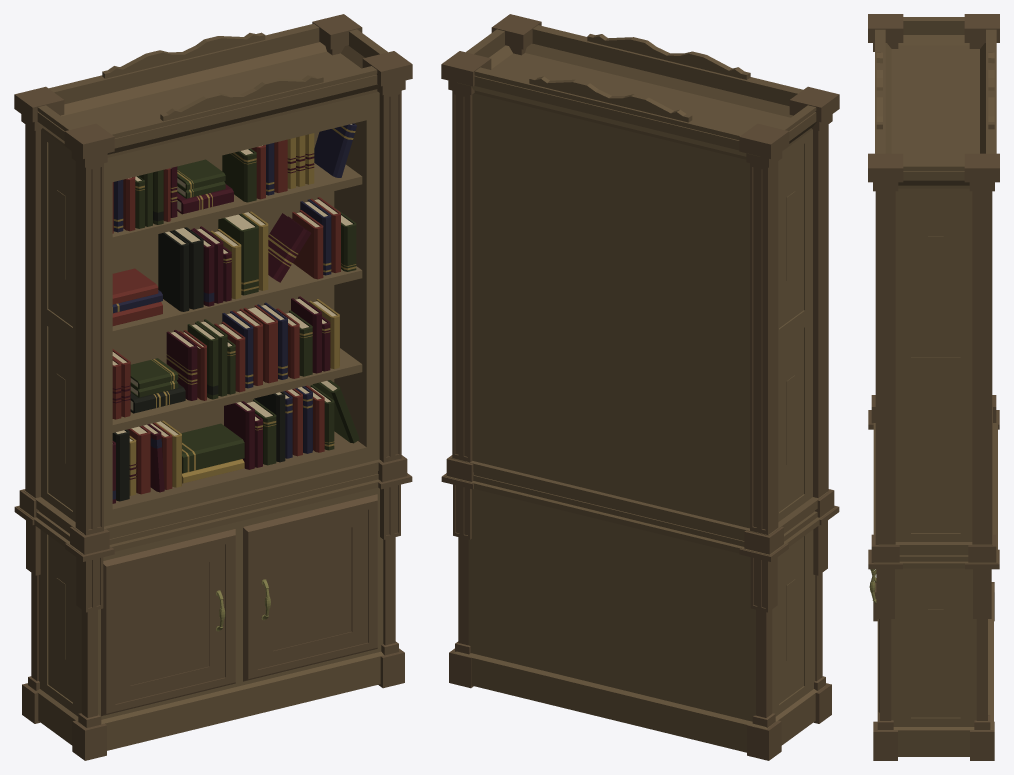
File: bookcase.glb
3 renders of one model, left to right at view 1: azimuth 30°, elevation 25°; view 2: azimuth 150°, elevation 25°; view 3: azimuth 270°, elevation 25°, orthographic. The views are drawn at different scales.
Parts seen in each view (by area): view 1: BookCase_Single; view 2: BookCase_Single; view 3: BookCase_Single.
Part boxes in pixels (<box>): BookCase_Single: <box>14,14,412,760</box>; BookCase_Single: <box>441,14,839,760</box>; BookCase_Single: <box>868,14,999,760</box>.
Bounding box in the file's own units: 1.84 × 3.37 × 0.6642.
Materials: 1 (1 with a texture image).
